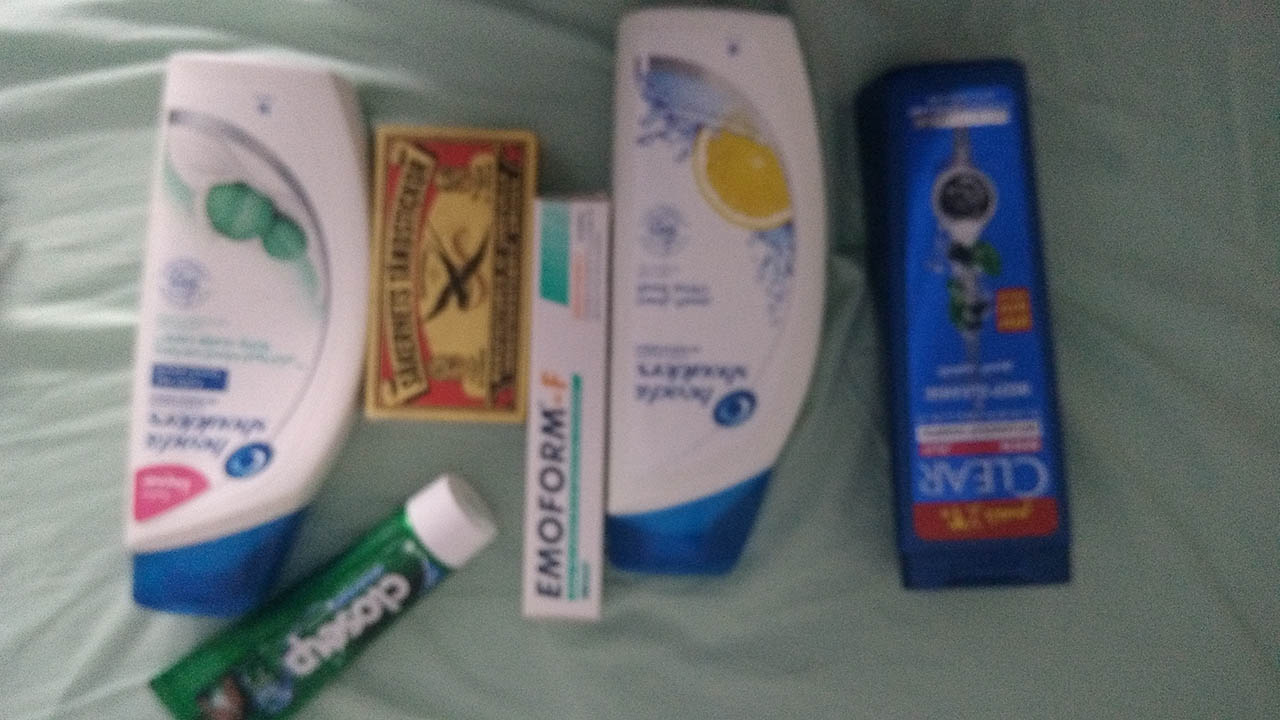Shampoo-Clear 4.7$: (858, 44, 1097, 588)
Toothpaste-Closeup 3.04$: (210, 472, 498, 720)
Toothpaste-F 1.5$: (520, 194, 612, 615)
match-sticks .90$: (377, 121, 526, 420)
shampoo-Lemon 3.5$: (614, 1, 822, 588)
shampoo-green 4.5$: (121, 34, 365, 602)
